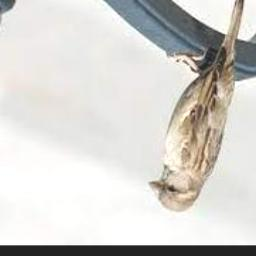Sparrow: (150, 0, 246, 212)
